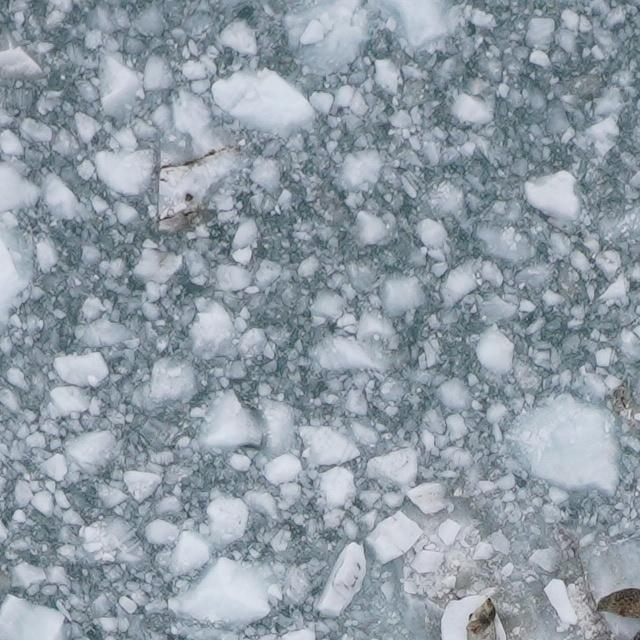seal: (587, 581, 639, 625), (460, 590, 502, 640)
